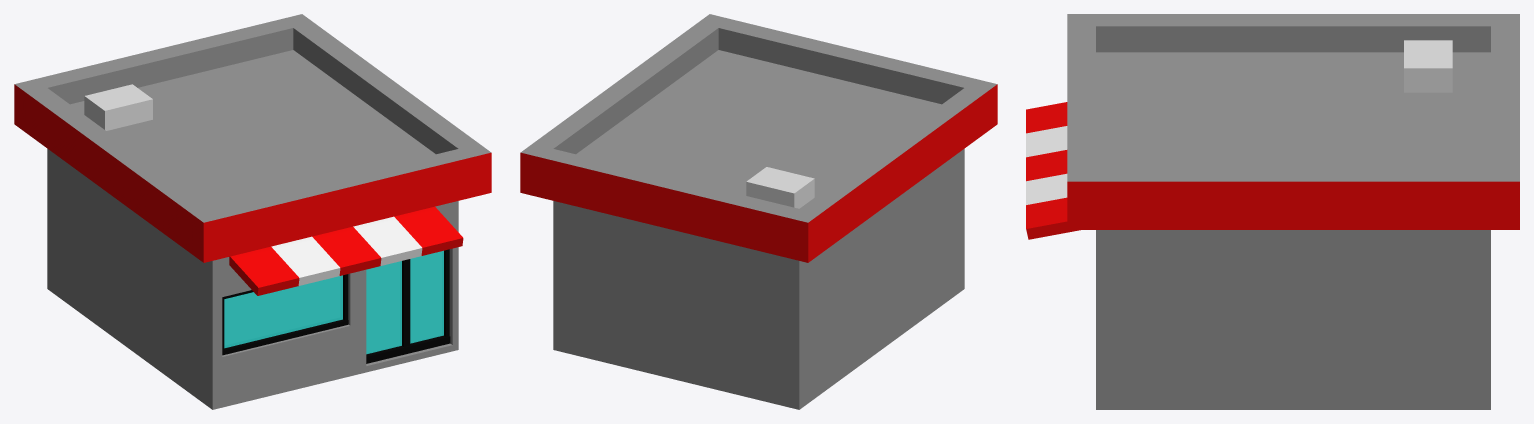
Rendered from Redshop.fbx.
3 renders of one model, left to right at view 1: azimuth 30°, elevation 25°; view 2: azimuth 150°, elevation 25°; view 3: azimuth 270°, elevation 25°, orthographic. The views are drawn at different scales.
Parts seen in each view (by area): view 1: Box231, Box241, Plane233, Plane232, Box232, Box242; view 2: Box231, Box242; view 3: Box231, Box241, Box242.
Part boxes in pixels (box(x1,y1,x2,y2)): Box231: box(14, 14, 491, 409); Box241: box(229, 206, 463, 295); Plane233: box(366, 250, 443, 354); Plane232: box(224, 275, 342, 348); Box232: box(222, 249, 450, 363); Box242: box(84, 84, 152, 130); Box231: box(520, 14, 997, 409); Box242: box(746, 167, 814, 208); Box231: box(1067, 14, 1519, 409); Box241: box(1026, 102, 1080, 239); Box242: box(1404, 40, 1452, 92).
Size of the model in its own units: 138 by 91.99 by 171.
